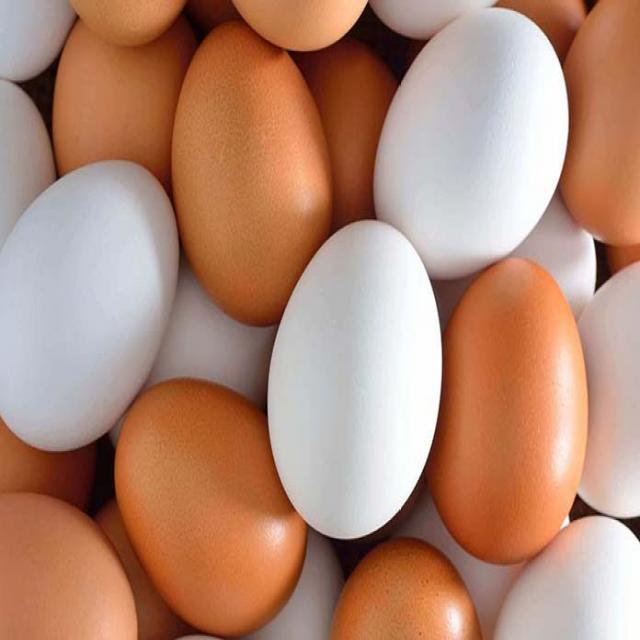egg: (269, 221, 442, 540), (374, 7, 570, 278), (0, 160, 178, 452), (115, 381, 307, 637), (428, 258, 589, 563), (173, 22, 333, 325)
